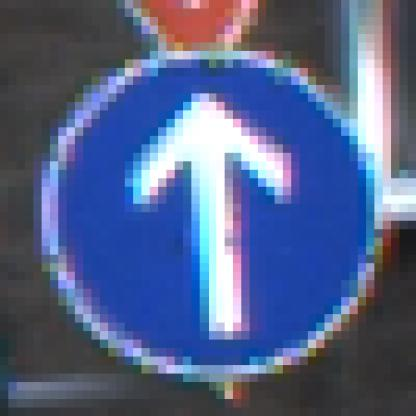AheadOnly: (43, 52, 376, 374)
